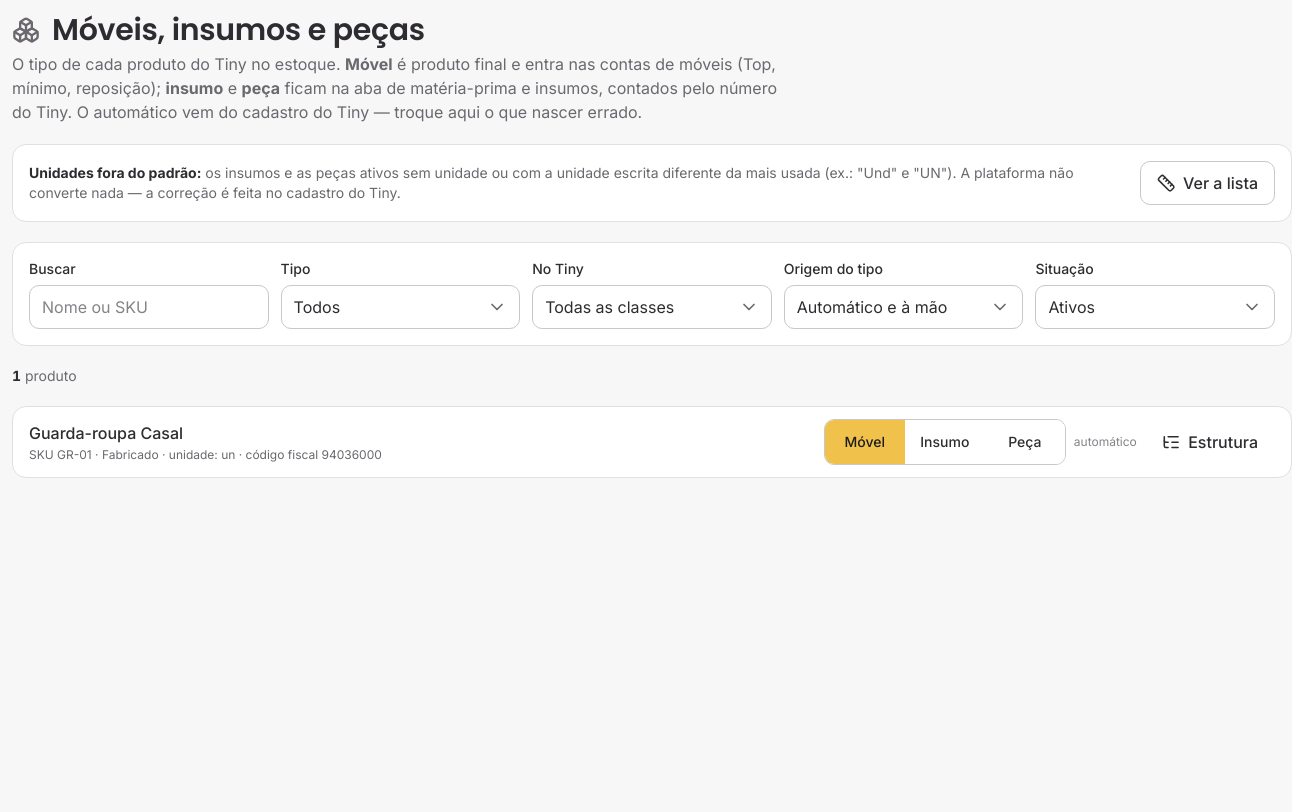
Configurações → Móveis, insumos e peças › "Estrutura" mostra do que o produto é feito, com a quantidade e a unidade
The image size is (1292, 812).
Click the button "Estrutura".
click(1210, 442)  # box [1145, 420, 1275, 464]
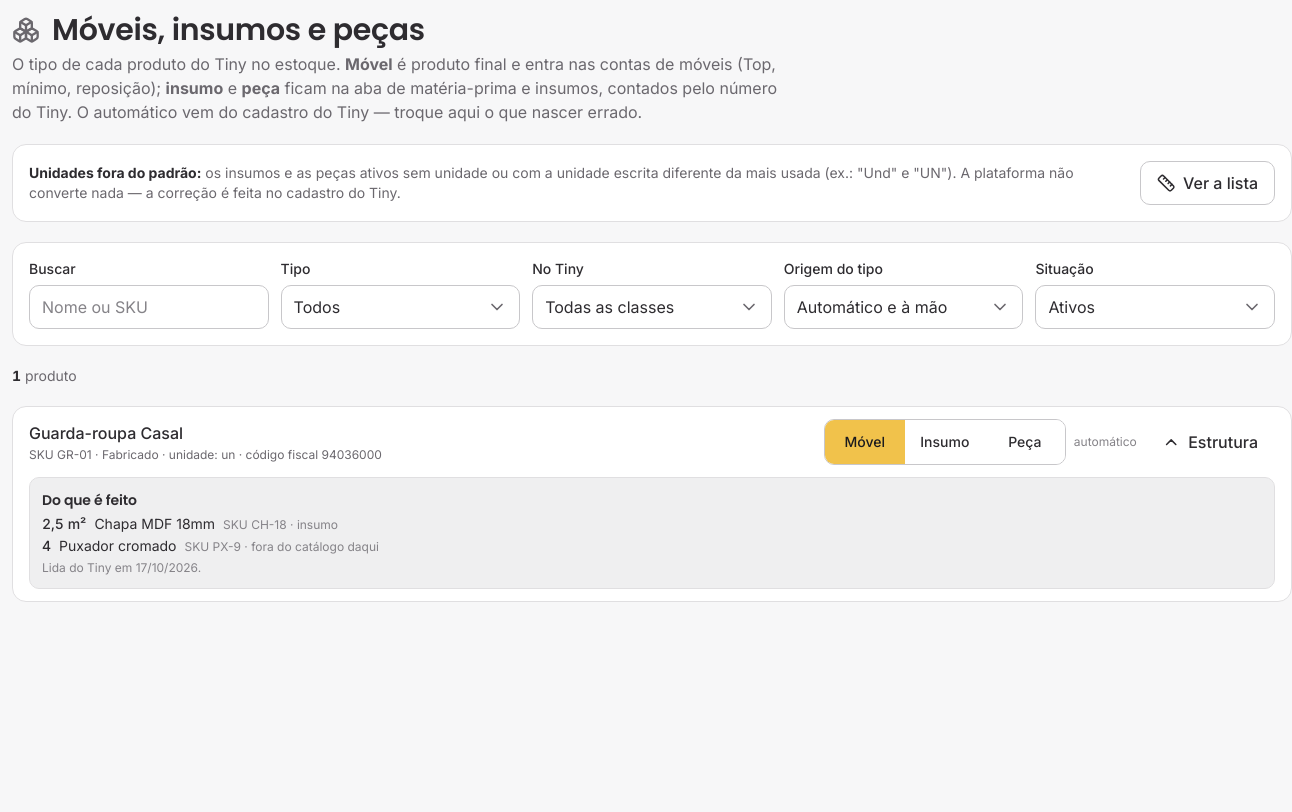
Result: the heading "Do que é feito" is shown at [42, 490, 137, 510]
Result: the text "Chapa MDF 18mm" is shown at [94, 514, 215, 534]
Result: the text "2,5 m²" is shown at [42, 514, 86, 534]
